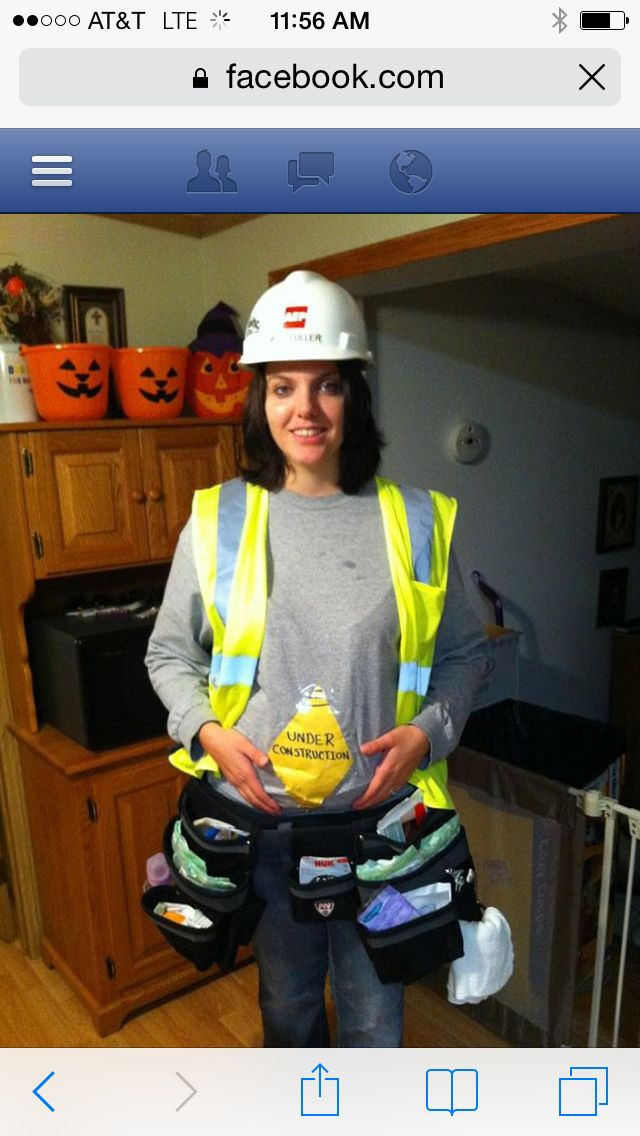Hard Hat: (237, 268, 382, 365)
High Viz: (375, 474, 455, 792), (193, 478, 259, 772)
